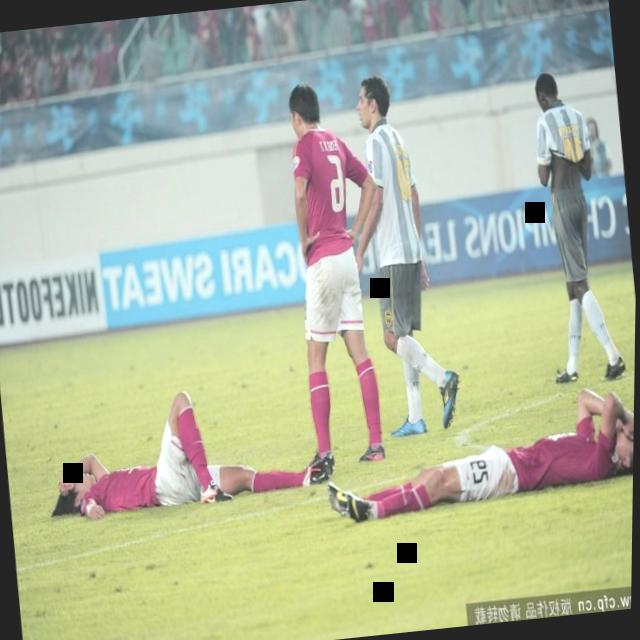Fall-Detected: (322, 371, 636, 527)
